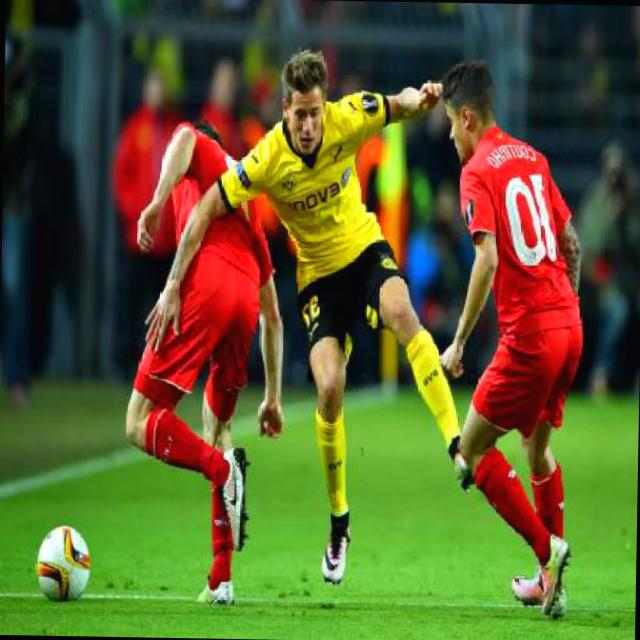Person: (265, 39, 399, 526)
